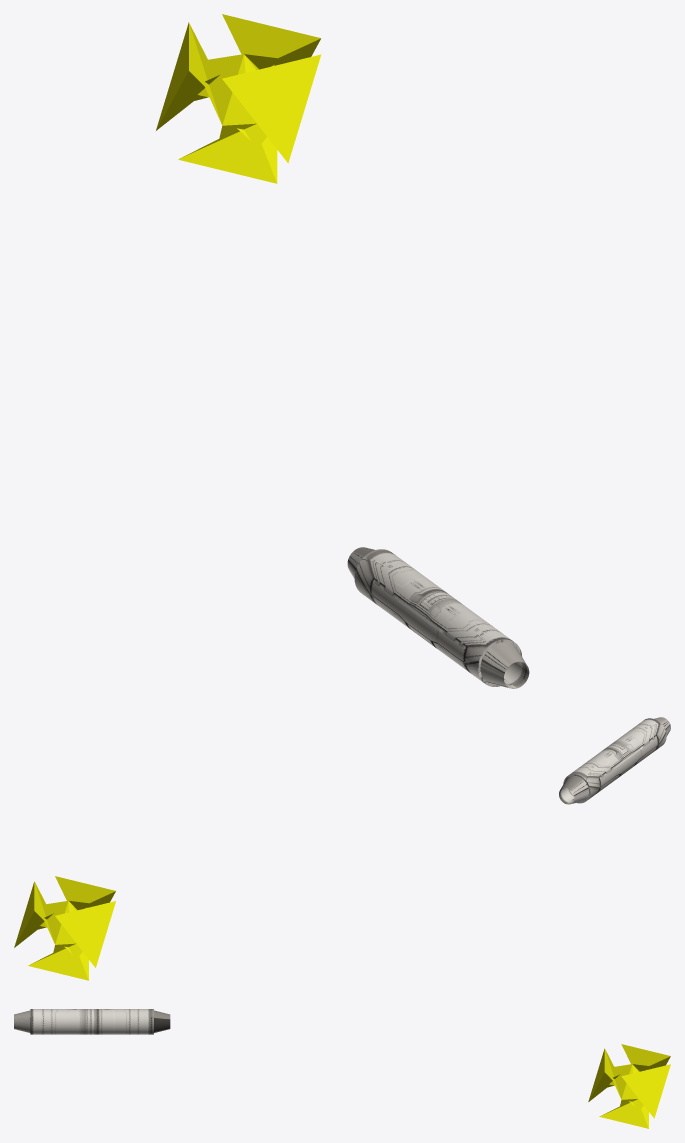
File: power up and new enemy.fbx
3 renders of one model, top to bottom at view 1: azimuth 30°, elevation 25°; view 2: azimuth 150°, elevation 25°; view 3: azimuth 270°, elevation 25°, orthographic. The views are drawn at different scales.
Parts seen in each view (by area): view 1: Platónico, Tubo_3; view 2: Platónico, Tubo_3; view 3: Platónico, Tubo_3.
Part boxes in pixels (x1=…): Platónico: x1=156, y1=14, x2=321, y2=183; Tubo_3: x1=347, y1=547, x2=529, y2=688; Platónico: x1=14, y1=876, x2=115, y2=980; Tubo_3: x1=559, y1=717, x2=670, y2=804; Platónico: x1=588, y1=1044, x2=670, y2=1128; Tubo_3: x1=14, y1=1009, x2=170, y2=1034.
Size of the model in its own units: 1087 by 275 by 2847.
Materials: 2 (1 with a texture image).
